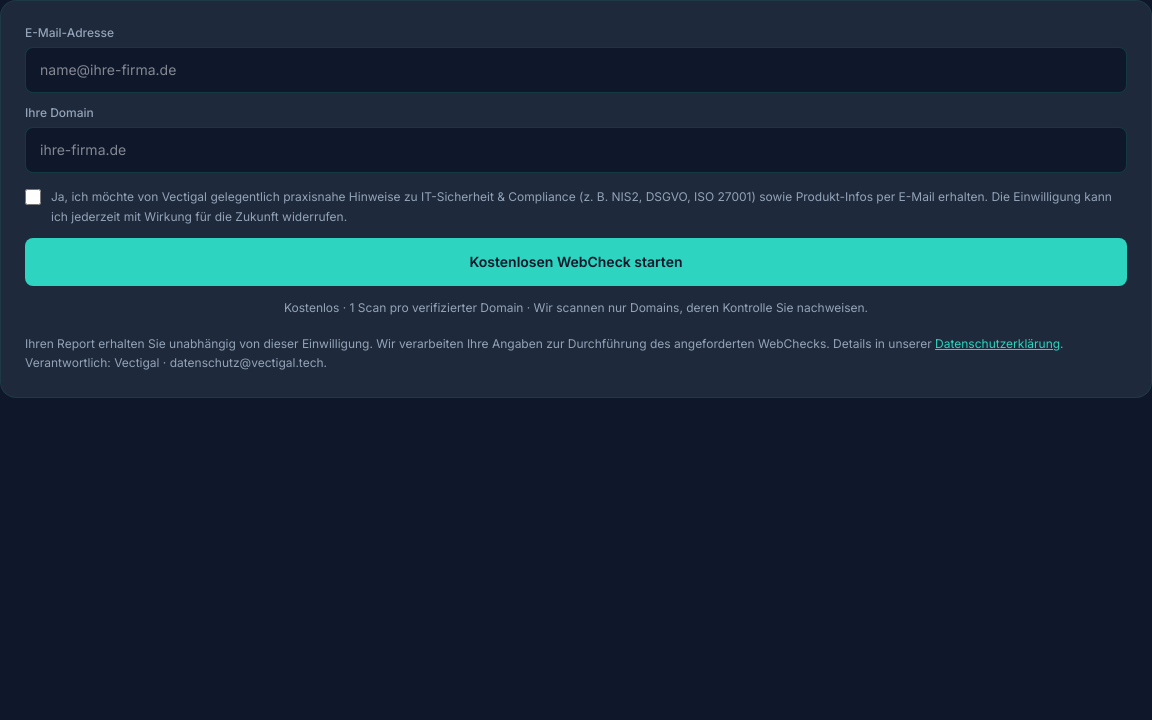
Test: WebCheckFreeForm › postet an /api/webcheck/start mit marketing_consent=false und consent_text_version, zeigt dann die Verifizierung
The image size is (1152, 720).
Type "kontakt@firma.de" into the field labelled "E-Mail-Adresse".
click(576, 70); type("kontakt@firma.de")  # box [25, 47, 1127, 93]
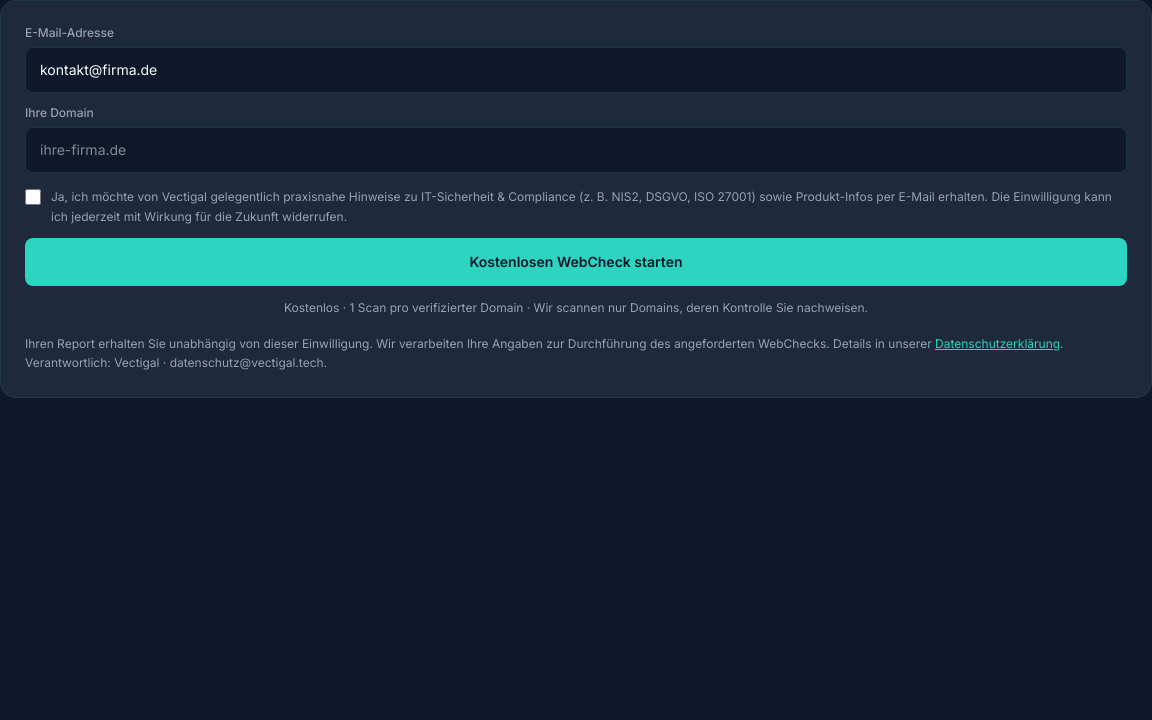
Type "https://www.firma.de/pfad" into the field labelled "Ihre Domain".
click(576, 150); type("https://www.firma.de/pfad")  # box [25, 127, 1127, 173]
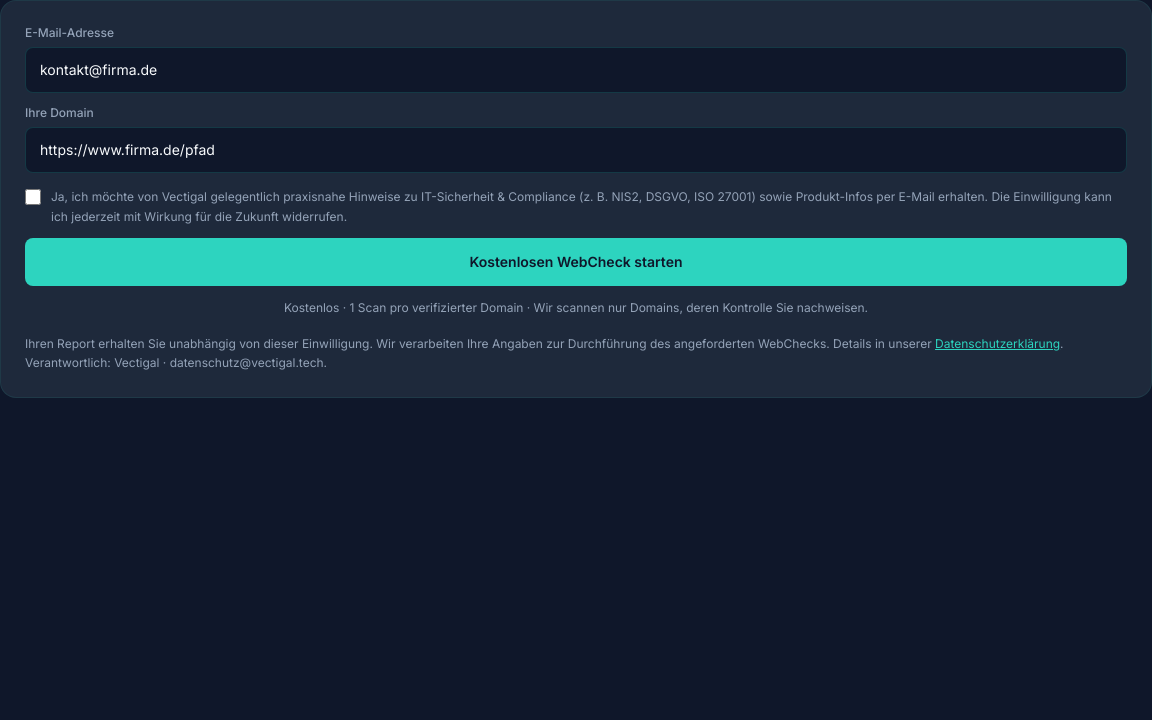
Click the button "Kostenlosen WebCheck starten".
click(576, 262)  # box [25, 238, 1127, 286]
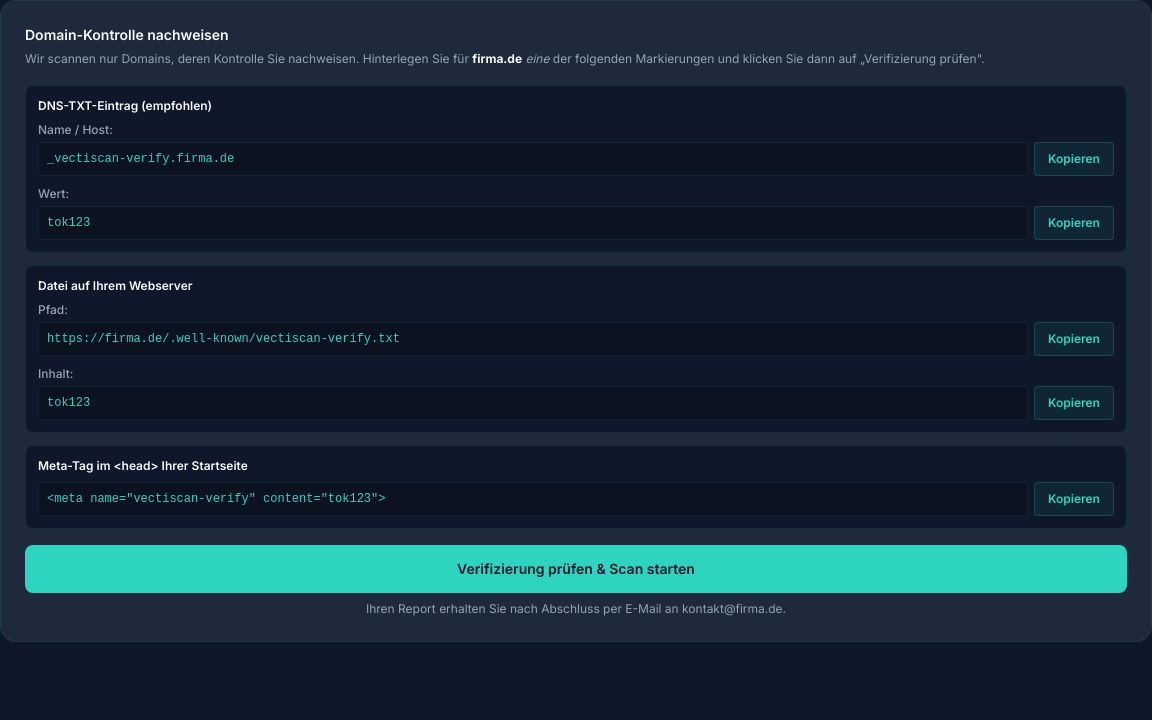
Now the text "Domain-Kontrolle nachweisen" is shown, box [25, 26, 229, 43]
Now the text "firma.de" is shown, box [472, 51, 522, 66]
Now the text "_vectiscan-verify.firma.de" is shown, box [38, 142, 1028, 176]
